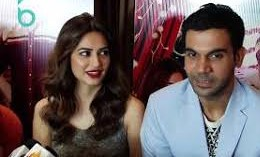Bad: (33, 3, 260, 157)
